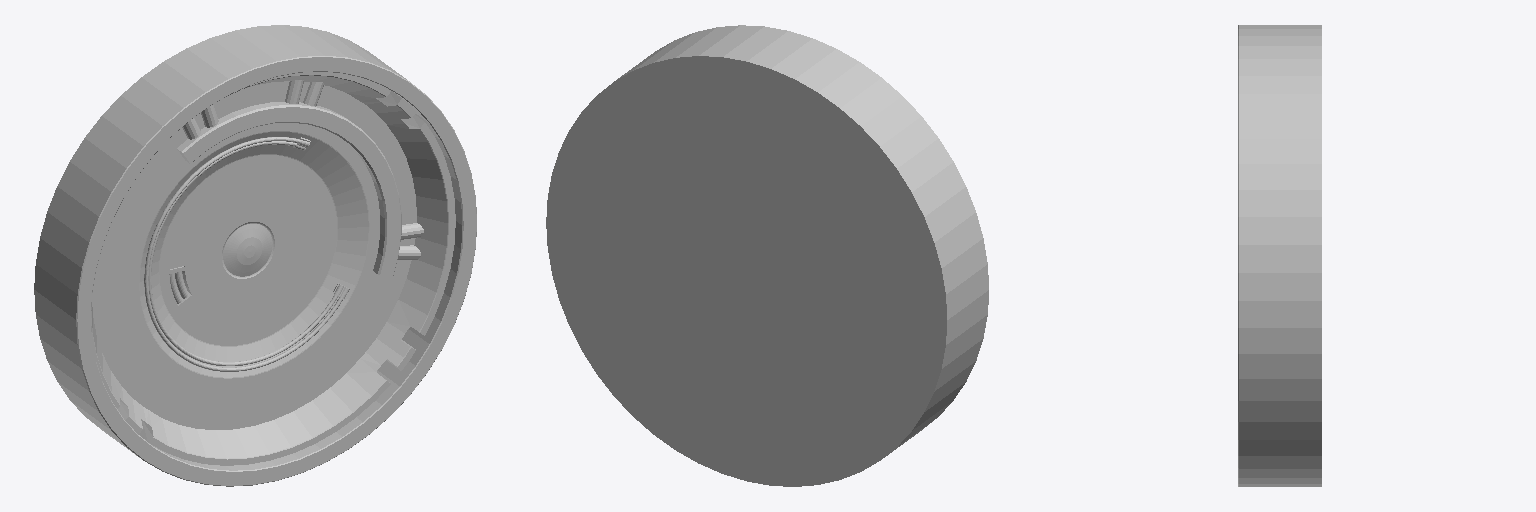
Rendered from SM_Bio_Hallway_Door_TOPOGUN.obj.
The picture shows the model from 3 angles: view 1: azimuth 30°, elevation 25°; view 2: azimuth 150°, elevation 25°; view 3: azimuth 270°, elevation 25°; orthographic projection.
Parts seen in each view (by area): view 1: SM_Bio_Hallway_Door group4; view 2: SM_Bio_Hallway_Door group4; view 3: SM_Bio_Hallway_Door group4.
Boxes of the visible parts, box(x1,y1,x2,y2) form: SM_Bio_Hallway_Door group4: box(34, 25, 476, 486); SM_Bio_Hallway_Door group4: box(546, 25, 988, 486); SM_Bio_Hallway_Door group4: box(1238, 25, 1321, 486).
Bounding box in the file's own units: 485 × 485 × 88.88.